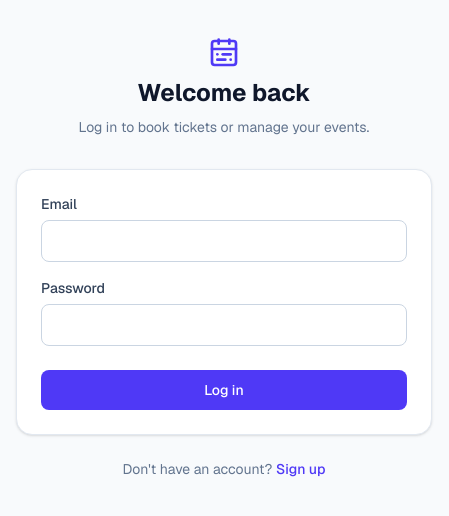
LoginPage › shows validation errors for an empty submission
What coordinates should you click on to do the following:
click the button "Log in"
I would click on:
 (224, 390)
Its box is [41,370,407,410].
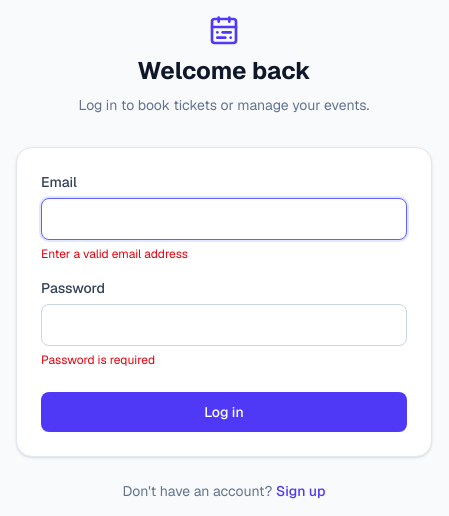
Expected: the text "Enter a valid email address" is shown, [41,246,188,262]
